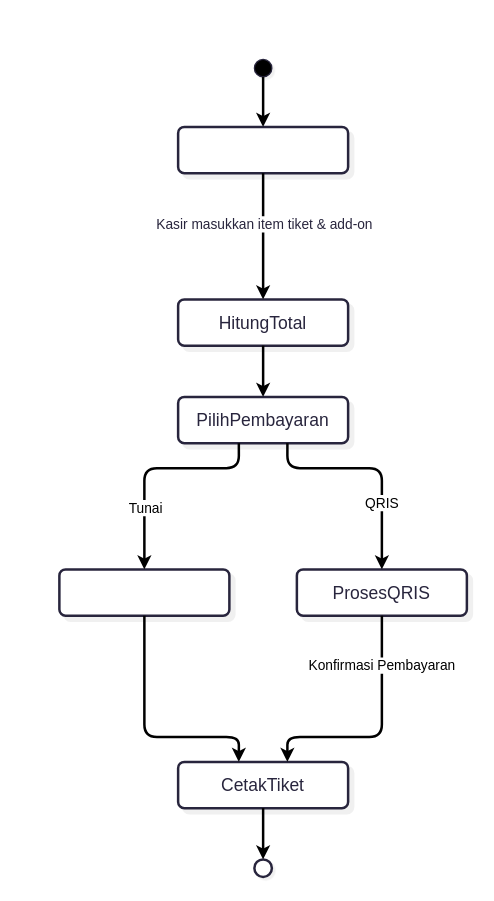
This 494x901 diagram has some shape labels left out. Here are the shapes that lost their labels. From the top down, the centre of each, then its label:
At (x=265, y=152): "InputPemesanan".
At (x=146, y=594): "ProsesTunai".
